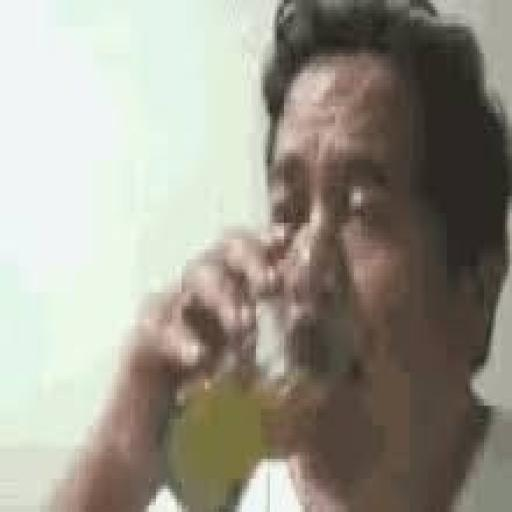drinking: (40, 0, 510, 509)
